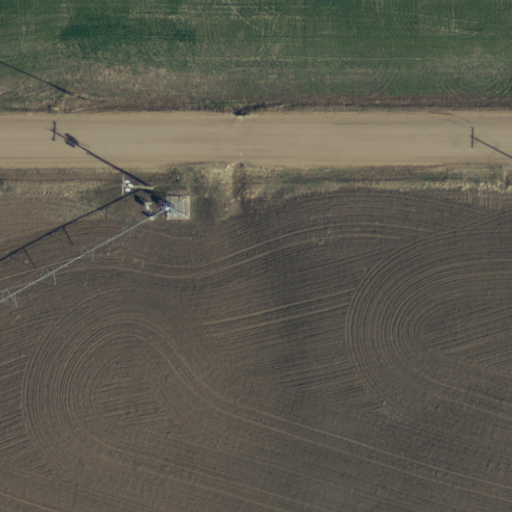DT: (111, 170, 159, 201)
